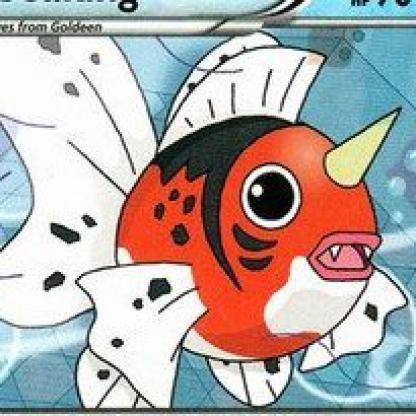Seaking: (37, 35, 415, 405)
